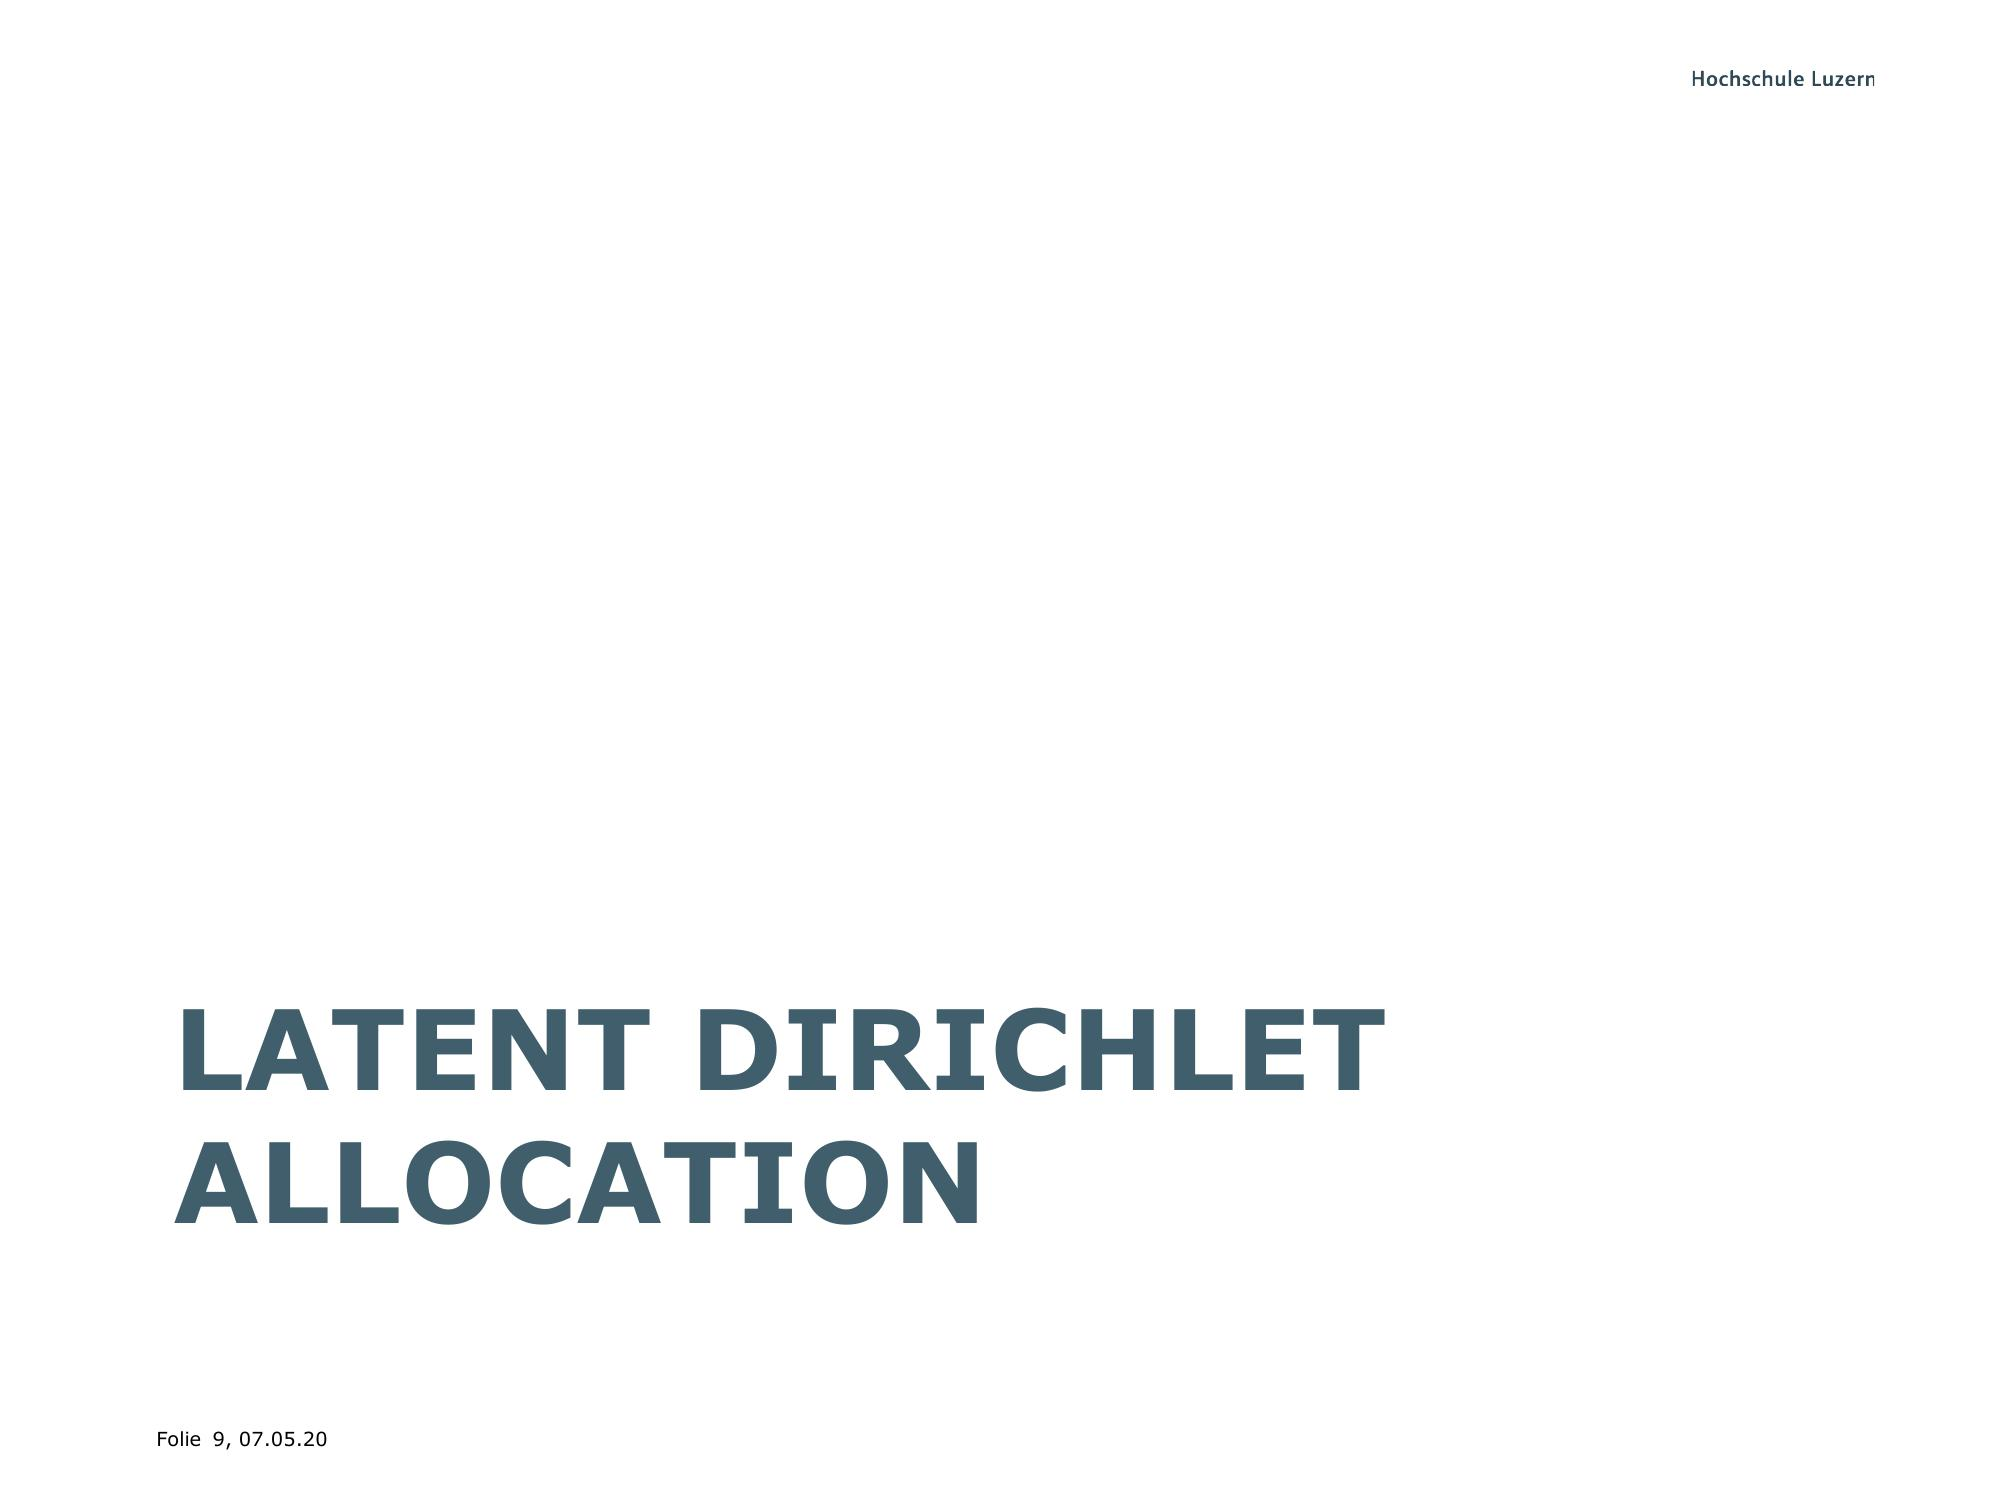Title: (150, 994, 1397, 1253)
